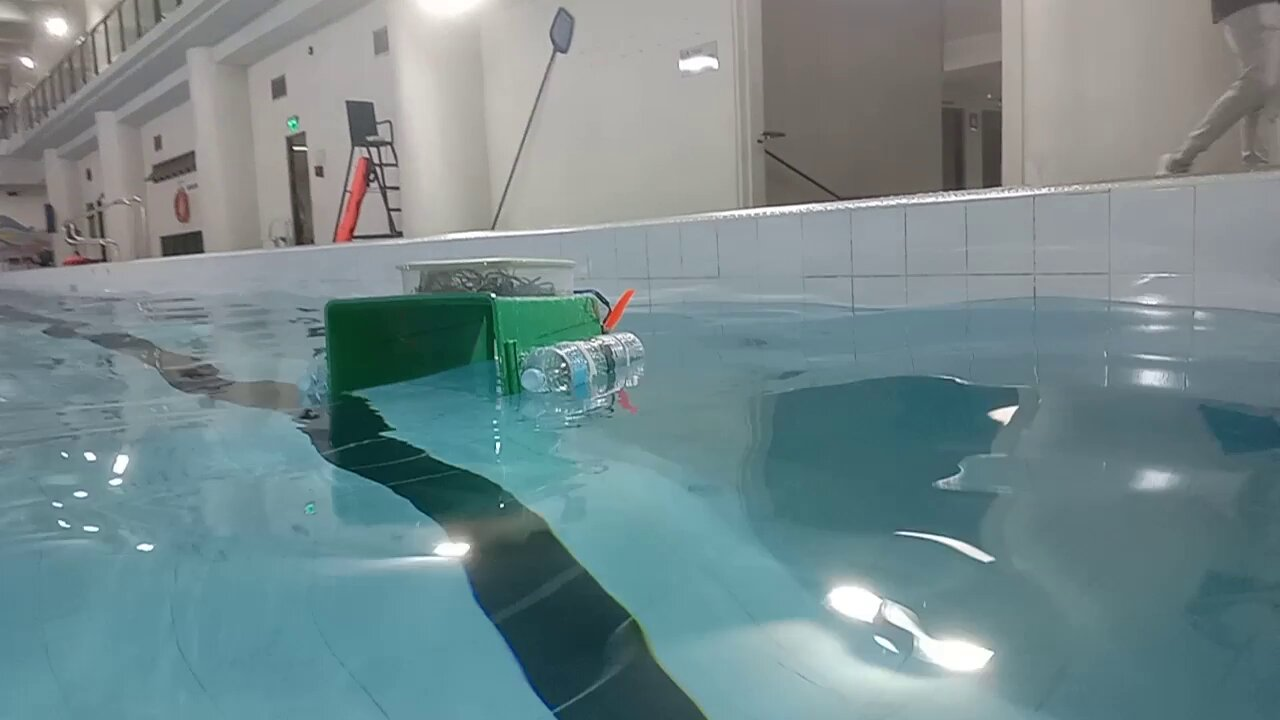drone: (294, 255, 646, 405)
